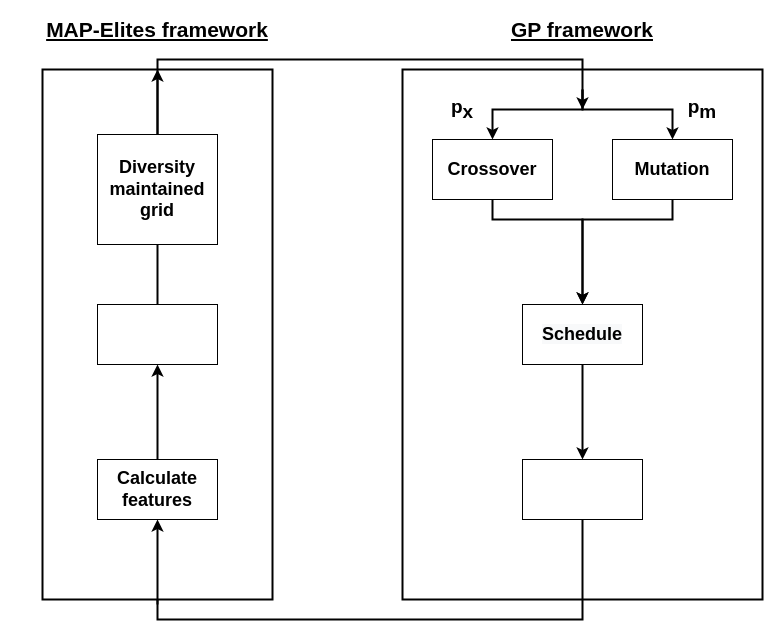
Some shapes in this 780 by 639 pixel diagram are drawn without their labels. Here are the shapes that lost their labels. From the top down, the centre of each, then its label:
At point 157,334: "Update".
At point 582,489: "Evaluate".
